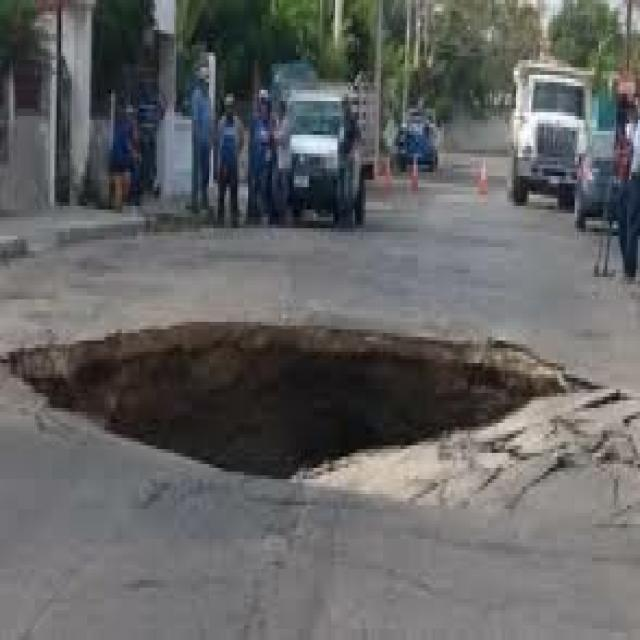Pothole: (8, 281, 640, 599)
